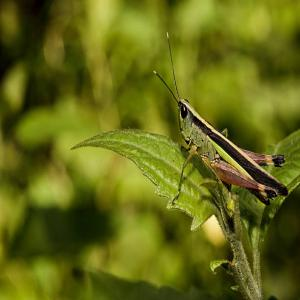locust: (162, 38, 286, 214)
